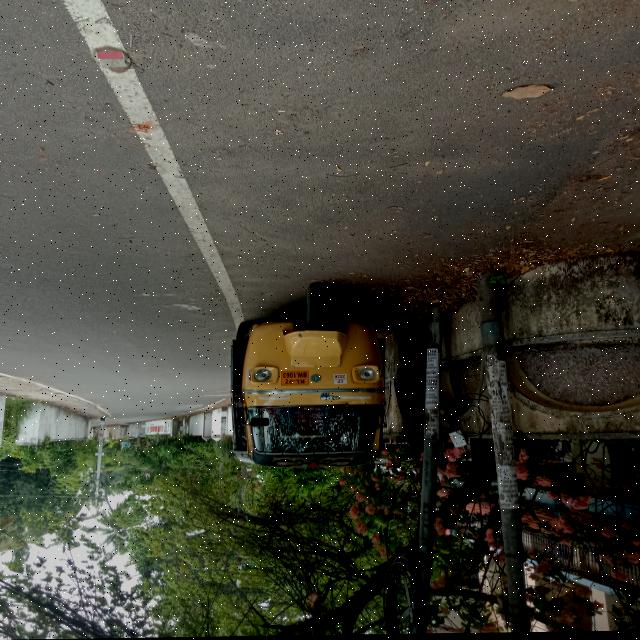plate: (280, 371, 310, 387)
